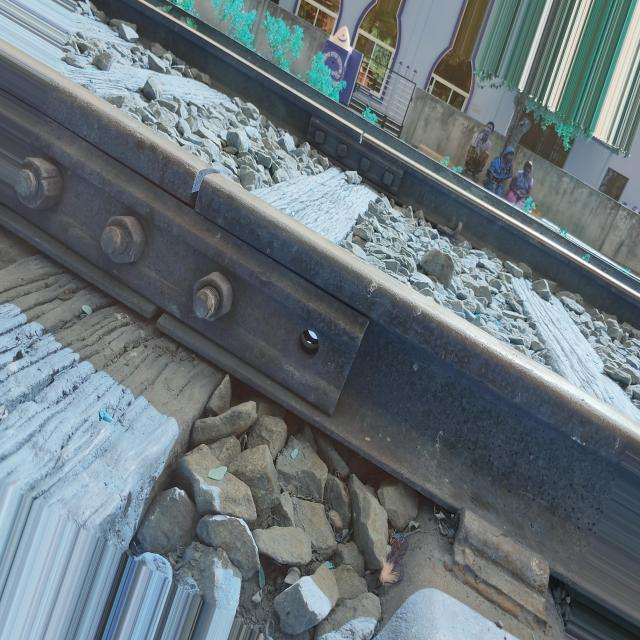Defective Joint: (0, 80, 369, 414)
Good Joint: (306, 116, 404, 195)
